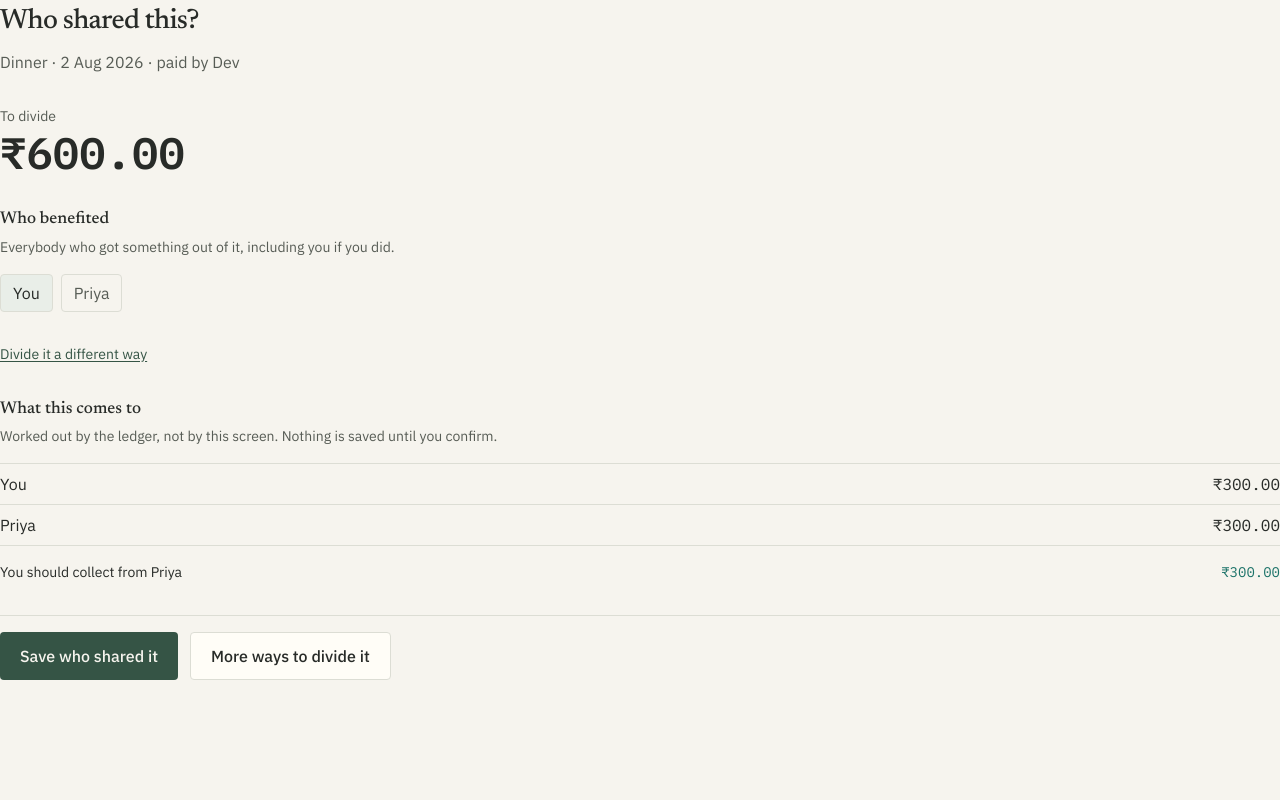
Test: saying who shared an expense › says plainly that the payer is owed, without contradicting itself
The width and height of the screenshot is (1280, 800).
Expected: the heading "What this comes to" is shown, 0,400 -> 141,418
Click the button "Save who shared it".
click(89, 656)  # box 0,632 -> 178,680
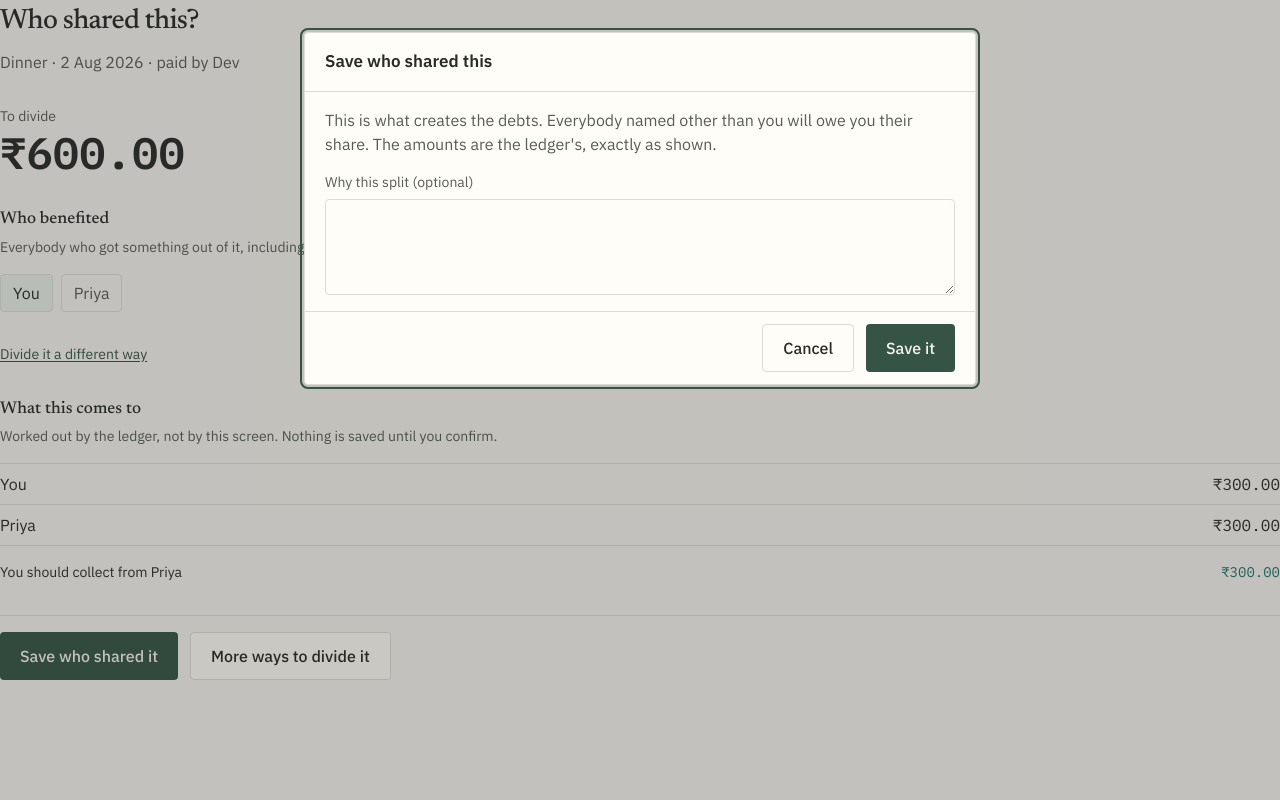
Expected: the text "Everybody named other than you will owe you their share" is shown, 325,110 -> 913,154
